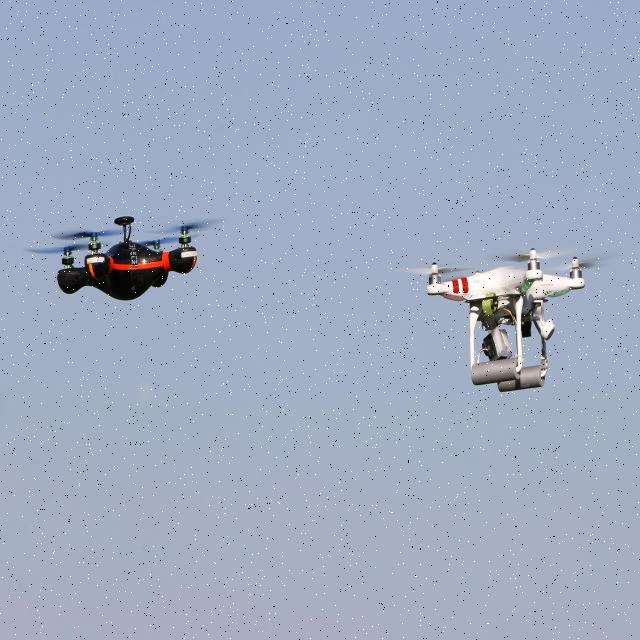UAV: (424, 240, 588, 399), (56, 214, 200, 311)
